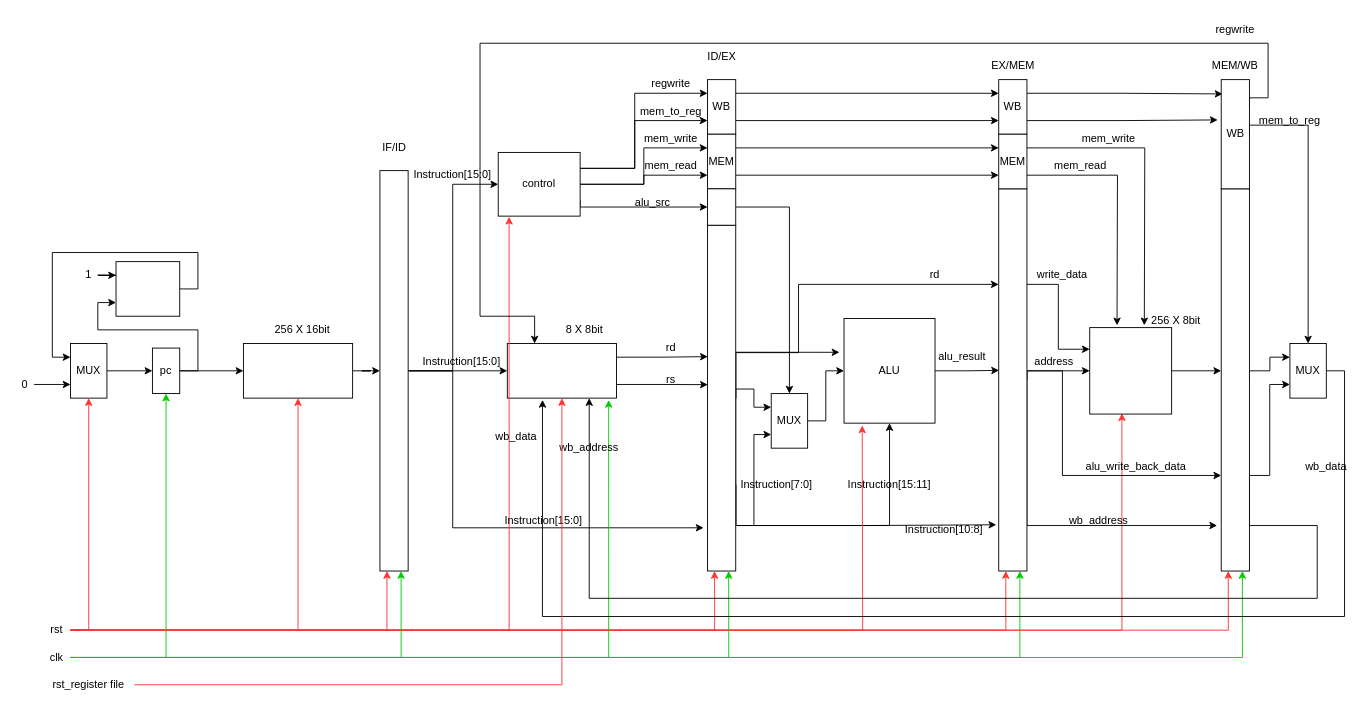
This 1369x713 diagram has some shape labels left out. Each missing label, with the centre of its shape:
"ADDER" goes at (x=147, y=288).
"data memory RAM" goes at (x=1130, y=370).
"EX" goes at (x=721, y=206).
"register file" goes at (x=561, y=370).
"ROM instruction memory" goes at (x=298, y=370).
